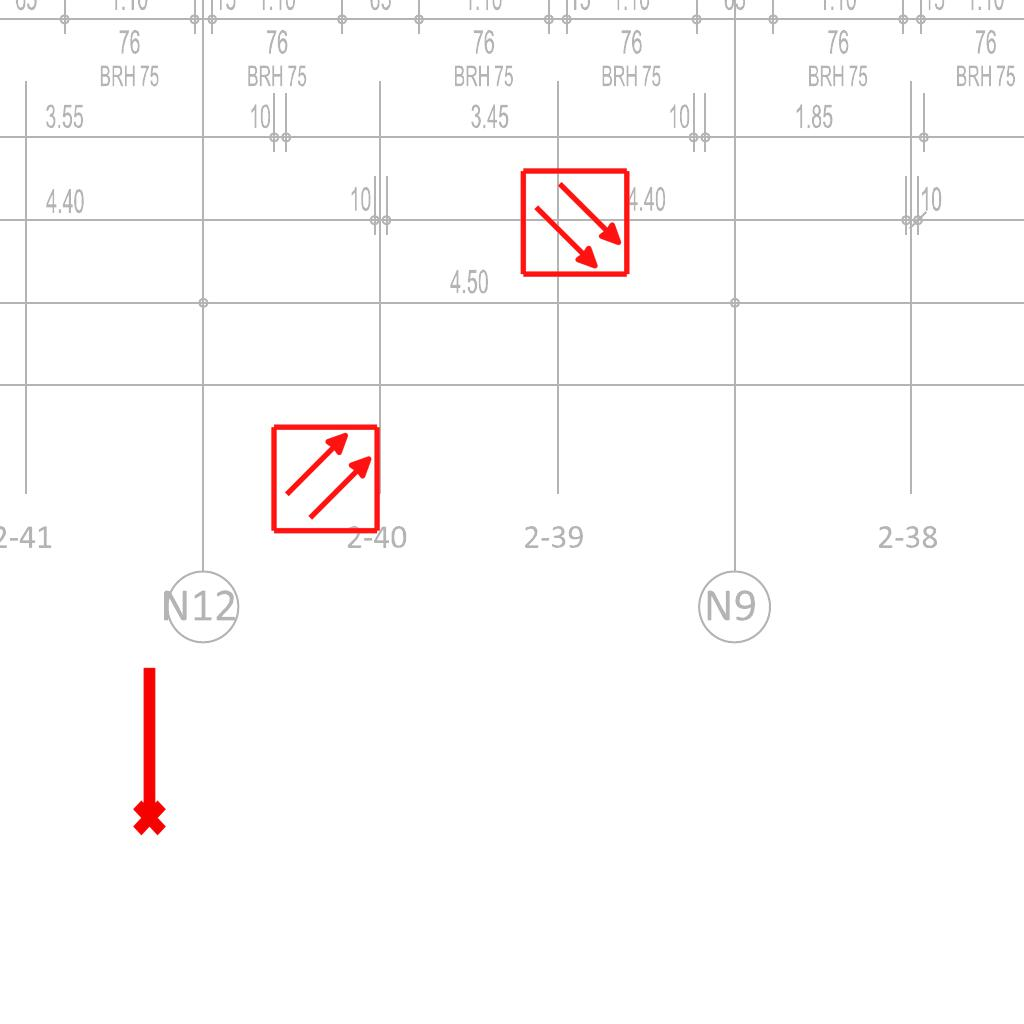ASR_Ansaugoeffnung: (124, 662, 170, 838)
RMO_Rauchmelder_optischer: (519, 166, 632, 279), (269, 422, 382, 535)
